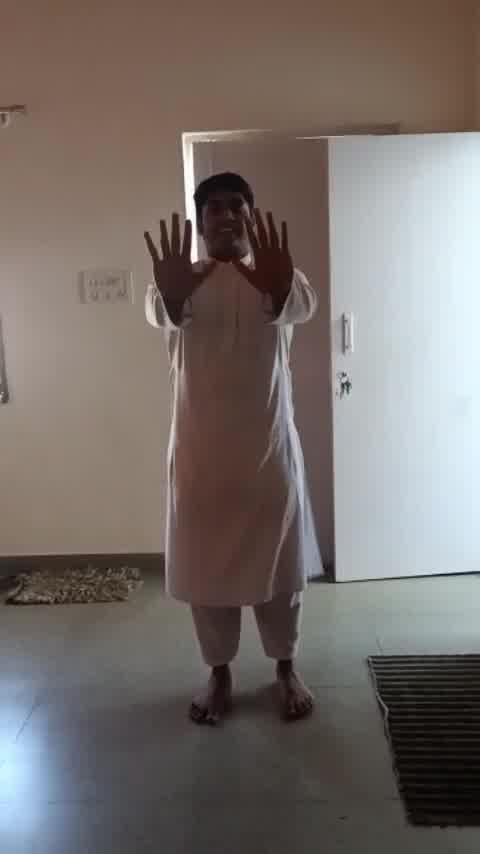duck: (139, 147, 366, 740)
